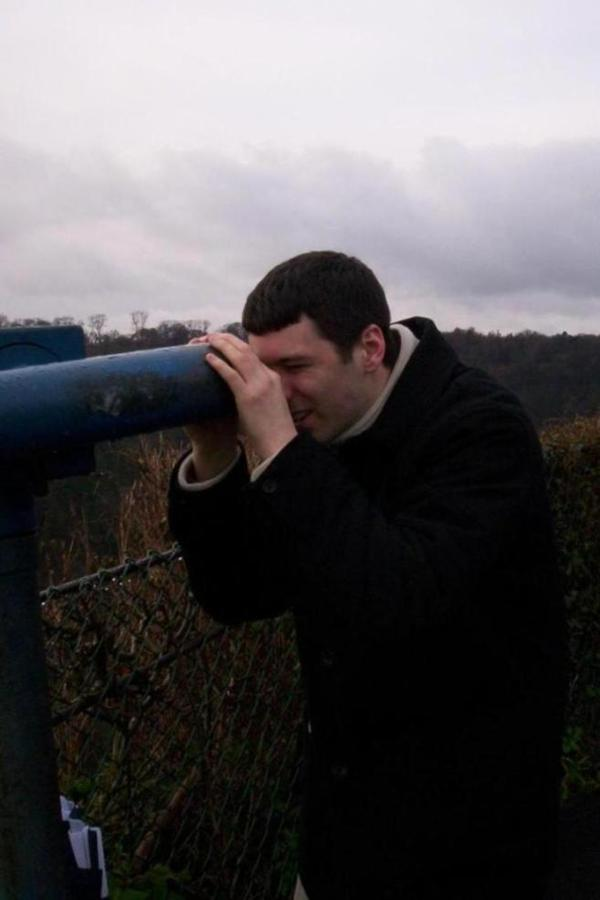person: (165, 249, 554, 893)
